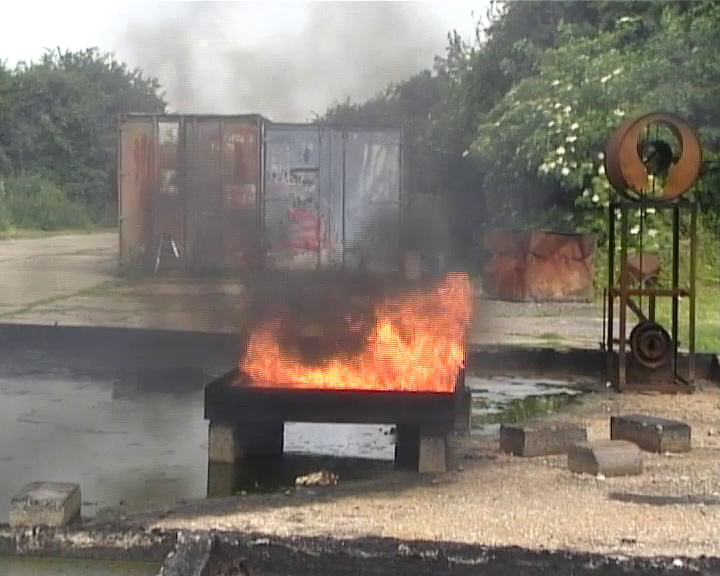fire: (247, 271, 472, 389)
